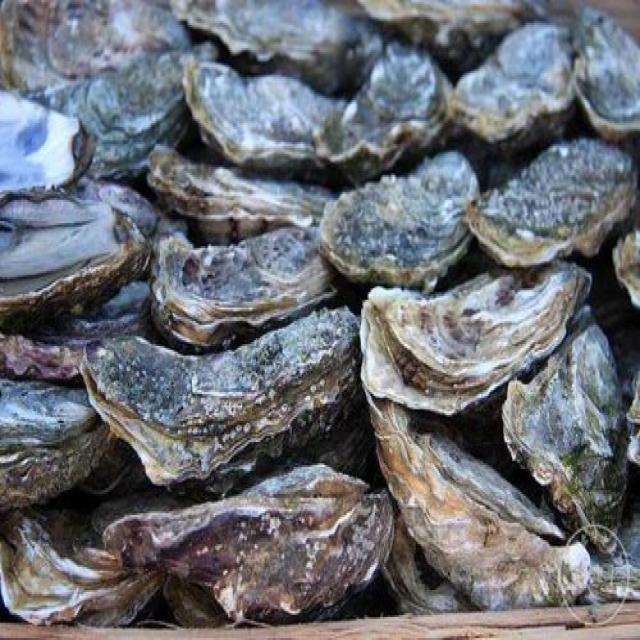Oyster- Indeterminate: (352, 255, 603, 424), (0, 80, 157, 332), (0, 36, 225, 183), (296, 30, 504, 181), (0, 499, 164, 629), (165, 0, 386, 94), (447, 9, 585, 157), (345, 0, 560, 76), (563, 3, 640, 151)
Oyster-Closed: (72, 305, 366, 501), (356, 380, 602, 610), (96, 457, 400, 622), (485, 295, 635, 565), (140, 224, 353, 352), (135, 128, 350, 249), (306, 140, 485, 285), (459, 131, 636, 268), (0, 328, 126, 513), (177, 54, 354, 179)
